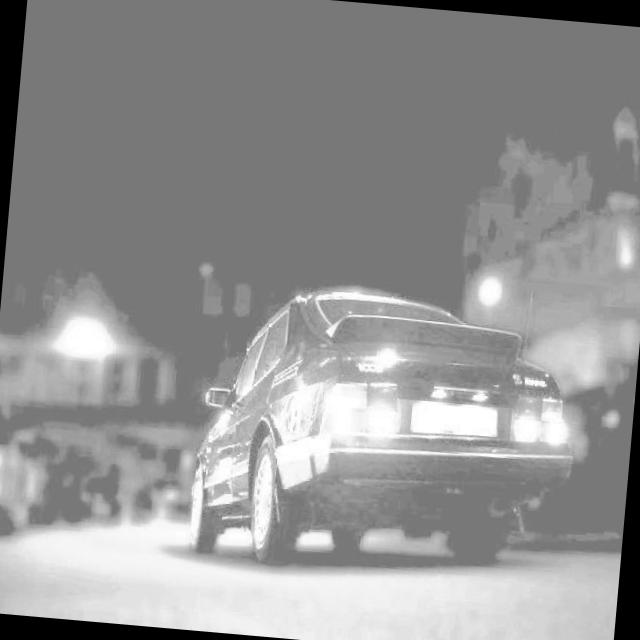Car: (175, 274, 558, 640)
